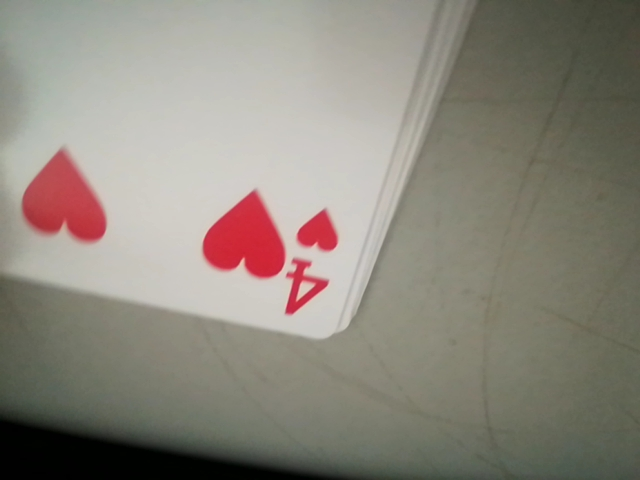hx 4: (286, 205, 344, 312)
